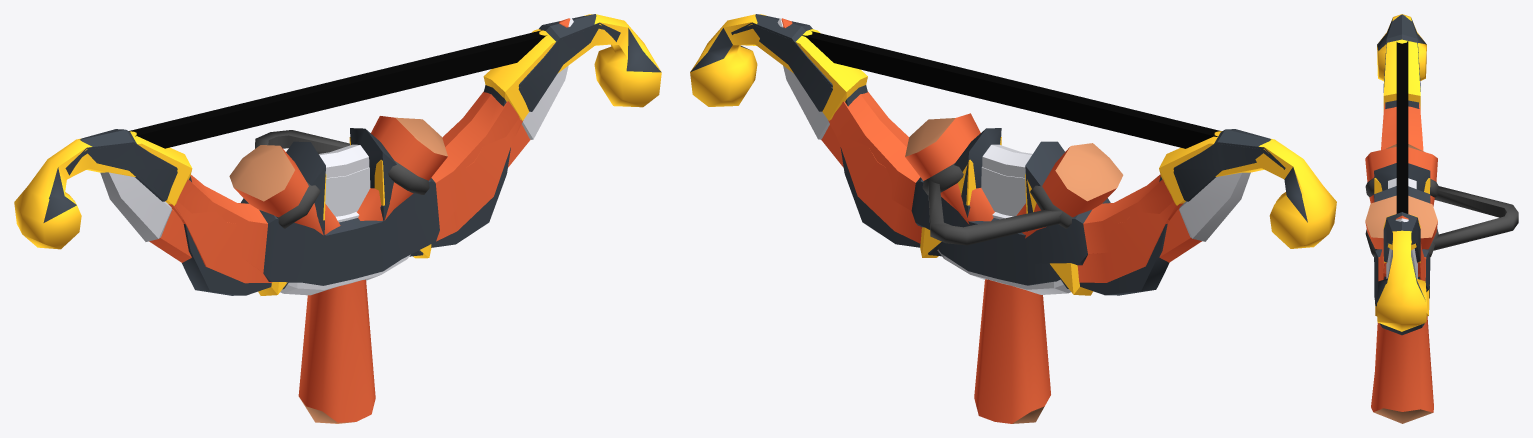
File: Bow.fbx
3 views of the same model, side by side, from view 1: azimuth 30°, elevation 25°; view 2: azimuth 150°, elevation 25°; view 3: azimuth 270°, elevation 25° (orthographic). The views are drawn at different scales.
Parts seen in each view (by area): view 1: Bow_09, Bow_01, Bow_06, Bow_07, Bow_05, Bow_02, Bow_03, Bow_04, Bow_08; view 2: Bow_09, Bow_01, Bow_07, Bow_05, Bow_06, Bow_02, Bow_04, Bow_03, Bow_08; view 3: Bow_01, Bow_09, Bow_07, Bow_06, Bow_05, Bow_08, Bow_04.
Boxes of the visible parts, box(x1,y1,x2,y2) form: Bow_09: box(14, 14, 661, 295); Bow_01: box(229, 116, 447, 423); Bow_06: box(177, 91, 519, 282); Bow_07: box(65, 24, 620, 289); Bow_05: box(66, 14, 620, 285); Bow_02: box(143, 18, 570, 255); Bow_03: box(146, 58, 530, 295); Bow_04: box(100, 18, 573, 241); Bow_08: box(43, 28, 661, 222); Bow_09: box(690, 14, 1336, 295); Bow_01: box(905, 113, 1123, 423); Bow_07: box(731, 24, 1285, 288); Bow_05: box(731, 14, 1285, 285); Bow_06: box(832, 92, 1173, 265); Bow_02: box(781, 18, 1208, 255); Bow_04: box(777, 18, 1250, 241); Bow_03: box(813, 43, 1206, 294); Bow_08: box(690, 28, 1307, 222); Bow_01: box(1365, 144, 1518, 423); Bow_09: box(1374, 14, 1430, 335); Bow_07: box(1374, 57, 1430, 280); Bow_06: box(1374, 103, 1429, 306); Bow_05: box(1374, 14, 1430, 298); Bow_08: box(1377, 18, 1426, 302); Bow_04: box(1386, 218, 1417, 278).
Bounding box in the file's own units: 224 × 119 × 55.01.
